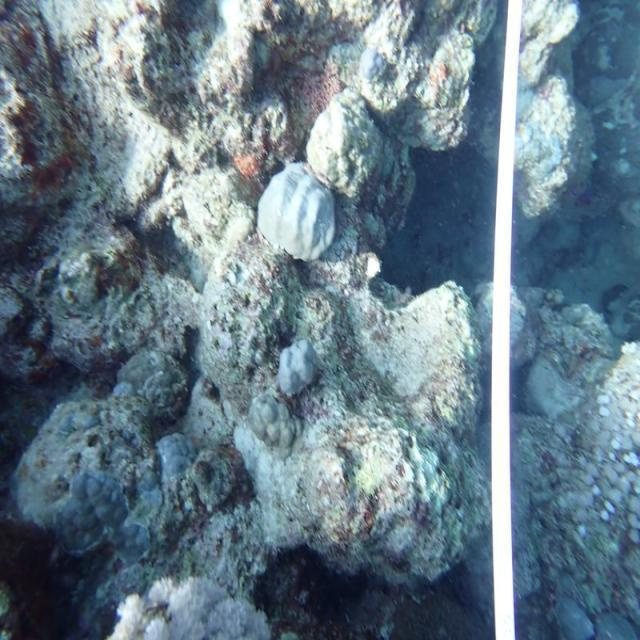Bleached Coral: (125, 560, 283, 640), (247, 151, 347, 276), (274, 316, 341, 414)
